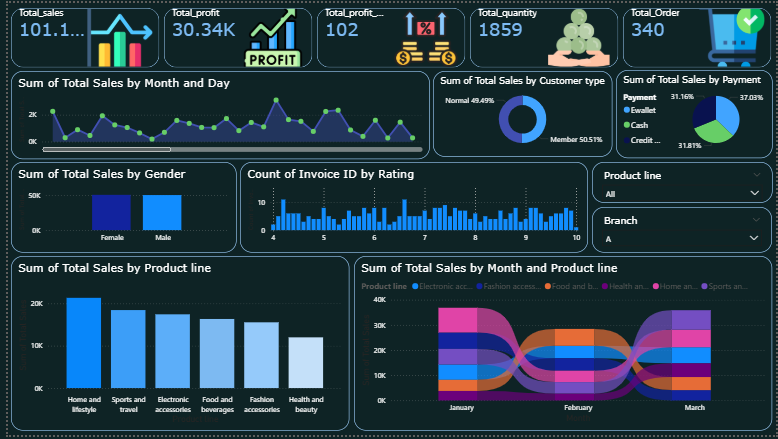

What the dashboard file says about the page in this screenshot:
{"tool":"powerbi","page":{"name":"Page 1","canvas":[1280,720],"ordinal":0},"visuals":[{"type":"cardVisual","fields":{"Data":["1000-Supermarket-Sales.Total_sales","1000-Supermarket-Sales.Total_profit","1000-Supermarket-Sales.Total_profit_margin","1000-Supermarket-Sales.Total_quantity","1000-Supermarket-Sales.Total_Order"]},"box":[0,3.7,1280,109.5],"z":0},{"type":"lineChart","fields":{"Y":["Sum(1000-Supermarket-Sales.Total Sales)"],"Category":["1000-Supermarket-Sales.Date.Variation.Date Hierarchy.Month","1000-Supermarket-Sales.Date.Variation.Date Hierarchy.Day"]},"box":[5,113.2,697.9,146.8],"z":1000},{"type":"donutChart","fields":{"Category":["1000-Supermarket-Sales.Customer type"],"Y":["Sum(1000-Supermarket-Sales.Total Sales)"]},"box":[709.1,113.2,298.6,143.1],"z":2000},{"type":"pieChart","fields":{"Category":["1000-Supermarket-Sales.Payment"],"Y":["Sum(1000-Supermarket-Sales.Total Sales)"]},"box":[1012.6,112,261.2,146.8],"z":3000},{"type":"clusteredColumnChart","fields":{"Category":["1000-Supermarket-Sales.Gender"],"Y":["Sum(1000-Supermarket-Sales.Total Sales)"]},"box":[5,265,375.7,150.5],"z":4000},{"type":"clusteredColumnChart","fields":{"Category":["1000-Supermarket-Sales.Rating"],"Y":["CountNonNull(1000-Supermarket-Sales.Invoice ID)"]},"box":[386.9,265,579.7,150.5],"z":5000},{"type":"columnChart","fields":{"Category":["1000-Supermarket-Sales.Product line"],"Y":["Sum(1000-Supermarket-Sales.Total Sales)"]},"box":[5,421.7,563.5,291.1],"z":6000},{"type":"slicer","fields":{"Values":["1000-Supermarket-Sales.Product line"]},"box":[972.8,265,301,68.4],"z":7000},{"type":"slicer","fields":{"Values":["1000-Supermarket-Sales.Branch"]},"box":[972.8,339.6,299.8,75.9],"z":8000},{"type":"ribbonChart","fields":{"Category":["1000-Supermarket-Sales.Date.Variation.Date Hierarchy.Month","1000-Supermarket-Sales.Date.Variation.Date Hierarchy.Day"],"Y":["Sum(1000-Supermarket-Sales.Total Sales)"],"Series":["1000-Supermarket-Sales.Product line"]},"box":[576,421.7,696.6,291.1],"z":9001}]}

Visuals, with their boxes in screenshot pixels (x1, y1, x2, y2), scaled from the page's 1280x720 canvas onto the 778x439 screenshot:
cardVisual - 1000-Supermarket-Sales.Total_sales x 1000-Supermarket-Sales.Total_profit: BBox(0, 2, 777, 69)
lineChart - Sum(1000-Supermarket-Sales.Total Sales) x 1000-Supermarket-Sales.Date.Variation.Date Hierarchy.Month: BBox(3, 69, 427, 159)
donutChart - 1000-Supermarket-Sales.Customer type x Sum(1000-Supermarket-Sales.Total Sales): BBox(431, 69, 612, 156)
pieChart - 1000-Supermarket-Sales.Payment x Sum(1000-Supermarket-Sales.Total Sales): BBox(615, 68, 774, 158)
clusteredColumnChart - 1000-Supermarket-Sales.Gender x Sum(1000-Supermarket-Sales.Total Sales): BBox(3, 162, 231, 253)
clusteredColumnChart - 1000-Supermarket-Sales.Rating x CountNonNull(1000-Supermarket-Sales.Invoice ID): BBox(235, 162, 588, 253)
columnChart - 1000-Supermarket-Sales.Product line x Sum(1000-Supermarket-Sales.Total Sales): BBox(3, 257, 346, 435)
slicer - 1000-Supermarket-Sales.Product line: BBox(591, 162, 774, 203)
slicer - 1000-Supermarket-Sales.Branch: BBox(591, 207, 774, 253)
ribbonChart - 1000-Supermarket-Sales.Date.Variation.Date Hierarchy.Month x 1000-Supermarket-Sales.Date.Variation.Date Hierarchy.Day: BBox(350, 257, 774, 435)
